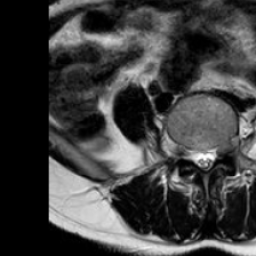CCS_stenosis: (200, 136, 209, 180)
LFS_normal: (219, 129, 230, 163)
LLS_normal: (209, 135, 219, 173)
RFS_normal: (179, 132, 190, 170)
RLS_normal: (190, 135, 200, 174)
